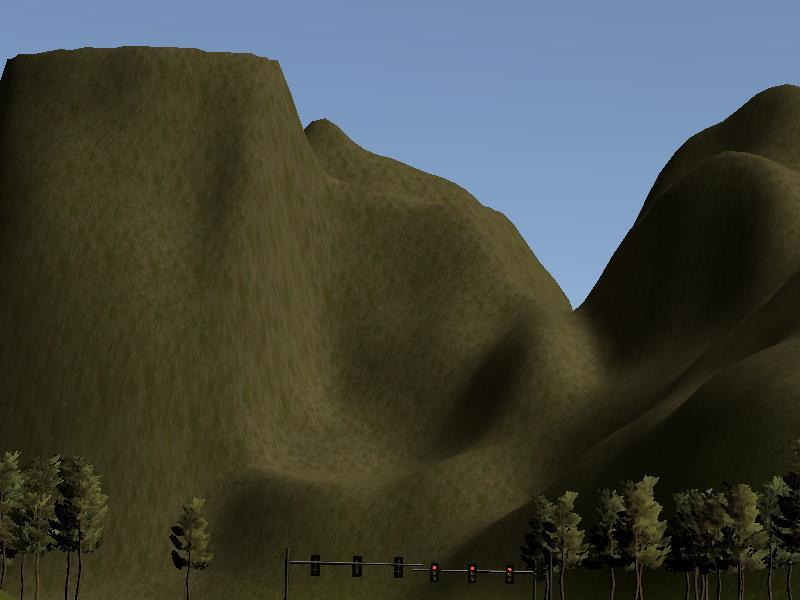Red: (428, 562, 441, 585), (467, 561, 478, 585), (504, 562, 514, 585)
